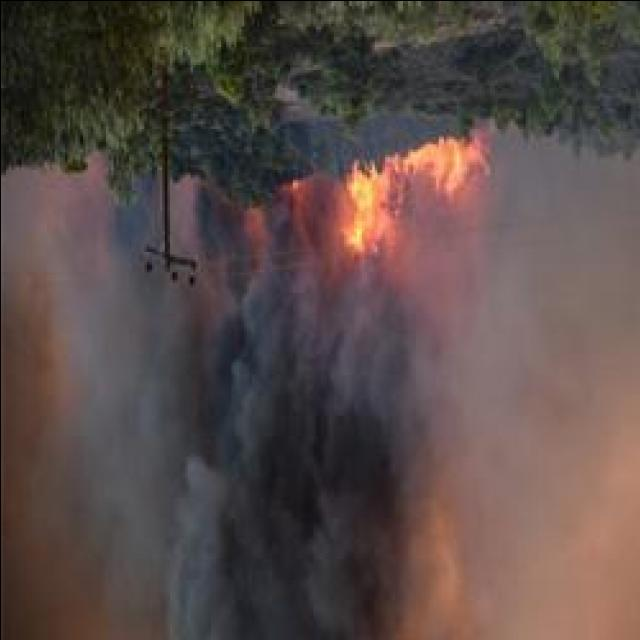fire: (342, 168, 387, 246)
smoke: (304, 272, 438, 440), (302, 464, 416, 636), (154, 448, 252, 640), (208, 284, 316, 450), (421, 132, 486, 212)
